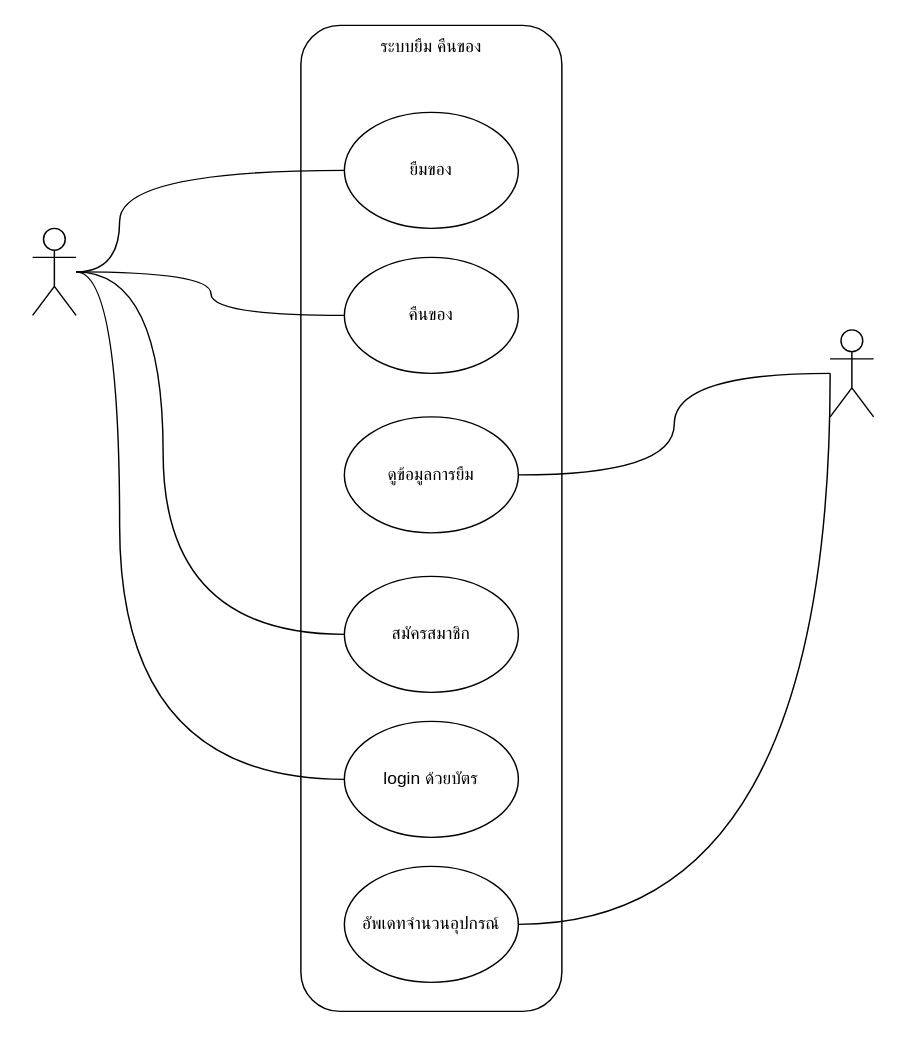
The diagram is 902 pixels wide and 1037 high, and some of its shapes have lost their labels. Here are the shapes that lost their labels. From the top down, the centre of each, then its label:
point 53,271: Student
point 851,372: Admin
